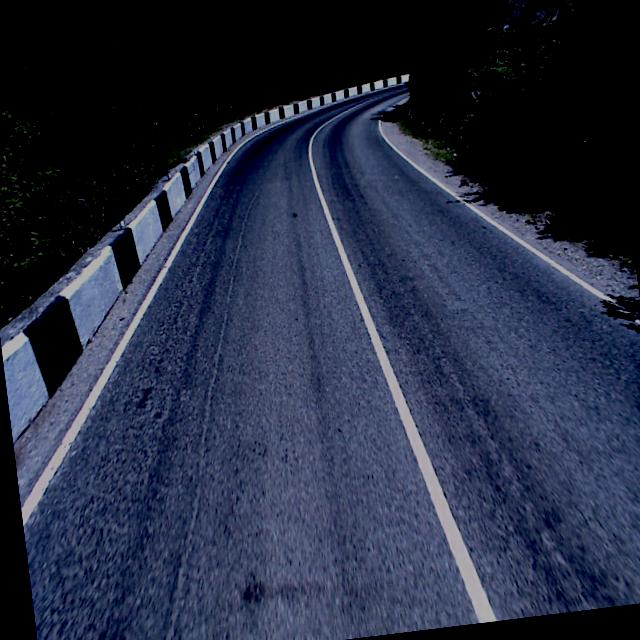road: (13, 84, 640, 640)
